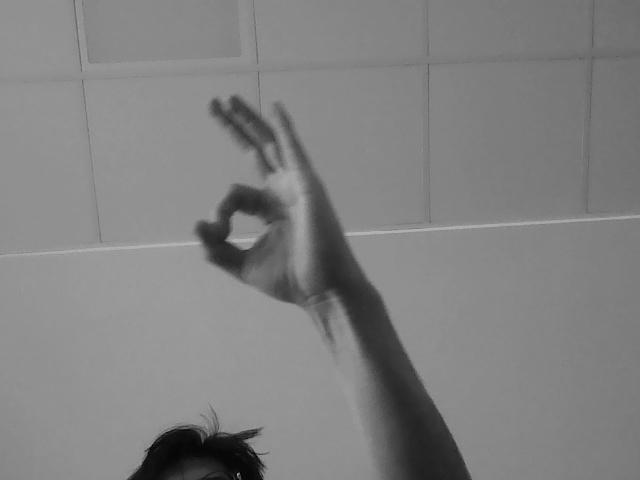OK: (190, 86, 377, 323)
